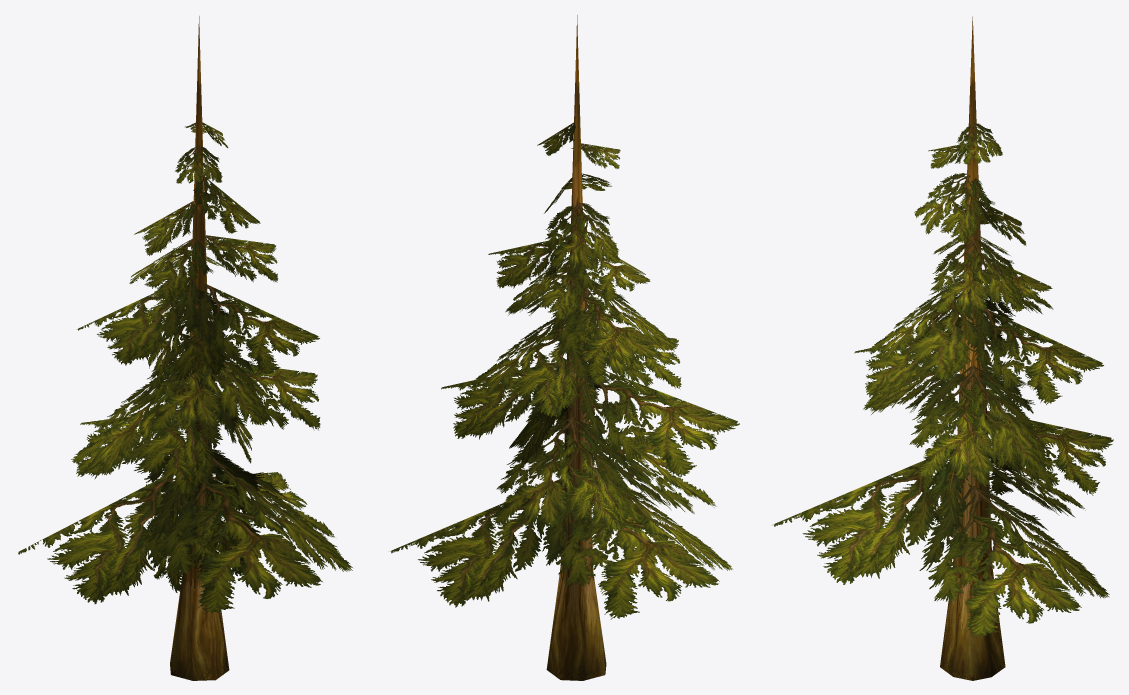
The model's file is alteractree02.obj.
The picture shows the model from 3 angles, left to right: view 1: azimuth 30°, elevation 25°; view 2: azimuth 150°, elevation 25°; view 3: azimuth 270°, elevation 25°; orthographic projection.
Parts seen in each view (by area): view 1: ALTERACTREE021, ALTERACTREE020; view 2: ALTERACTREE021, ALTERACTREE020; view 3: ALTERACTREE021, ALTERACTREE020.
Boxes of the visible parts, left/top/right/bottom form: ALTERACTREE021: left=18, top=122, right=352, bottom=613; ALTERACTREE020: left=170, top=16, right=229, bottom=680; ALTERACTREE021: left=390, top=122, right=739, bottom=619; ALTERACTREE020: left=546, top=15, right=606, bottom=680; ALTERACTREE021: left=773, top=123, right=1113, bottom=636; ALTERACTREE020: left=940, top=16, right=1005, bottom=680.
Size of the model in its own units: 13.7 by 28.18 by 13.49.
2 materials, 2 textured.
